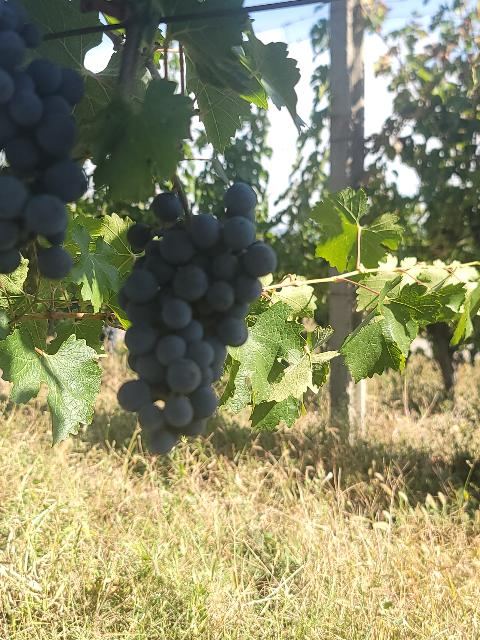grapes: (118, 182, 276, 454)
